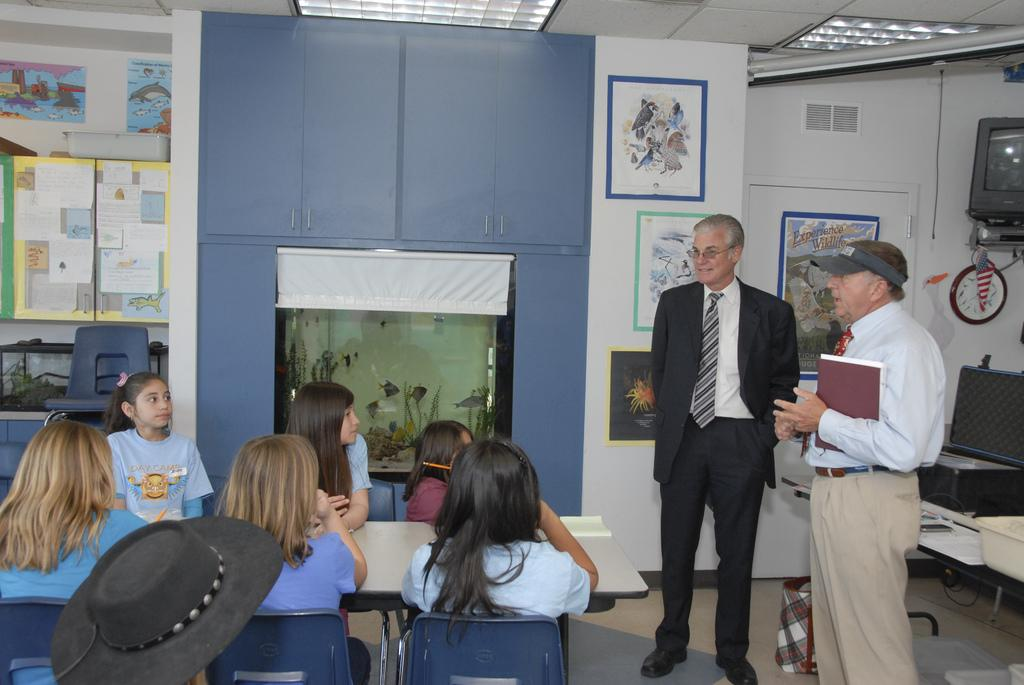Hat: (50, 514, 284, 684)
